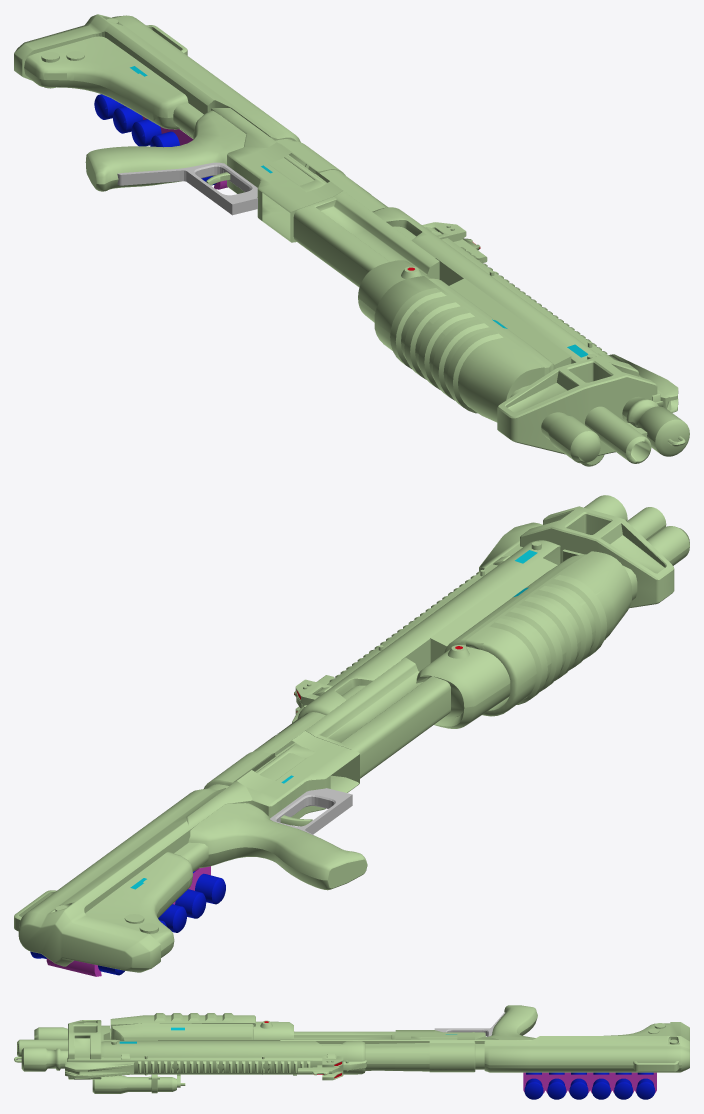
Rendered from M45_BrashWhisper_Static.fbx.
3 views of the same model, one above another, from view 1: azimuth 30°, elevation 25°; view 2: azimuth 150°, elevation 25°; view 3: azimuth 270°, elevation 25° (orthographic). The views are drawn at different scales.
Visible parts, largest first — view 1: MainBody; view 2: MainBody; view 3: MainBody.
Boxes of the visible parts, x1,y1,x2,y2 form: MainBody: (14, 14, 689, 466); MainBody: (14, 495, 689, 976); MainBody: (14, 1005, 689, 1099).
Bounding box in the file's own units: 19.58 × 8.85 × 86.27.
